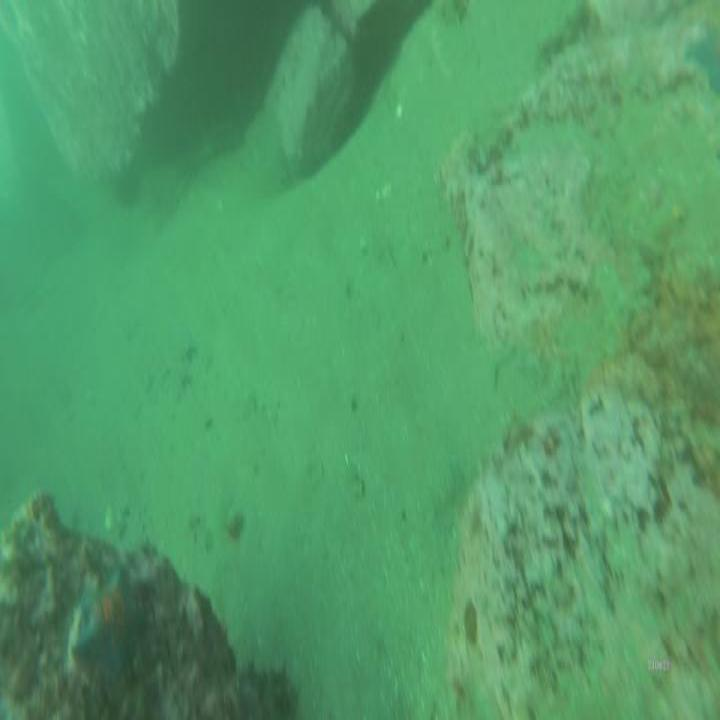starfish: (71, 565, 149, 690)
